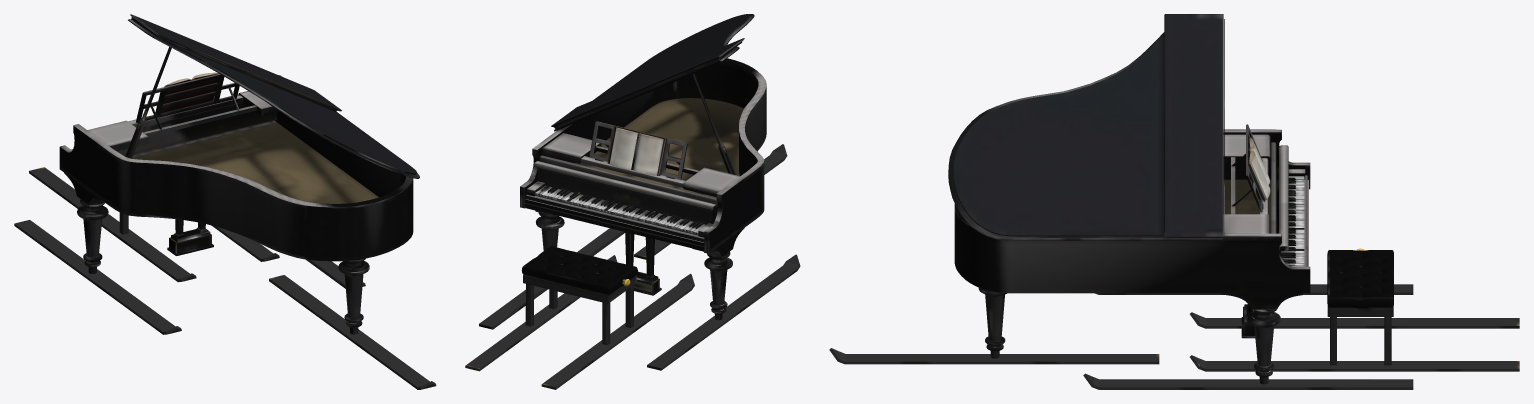
File: Piano.fbx
3 renders of one model, left to right at view 1: azimuth 30°, elevation 25°; view 2: azimuth 150°, elevation 25°; view 3: azimuth 270°, elevation 25°, orthographic. The views are drawn at different scales.
Parts seen in each view (by area): view 1: Piano; view 2: Piano; view 3: Piano.
Boxes of the visible parts, x1,y1,x2,y2 form: Piano: [14, 14, 436, 389]; Piano: [465, 14, 800, 389]; Piano: [829, 14, 1519, 389].
Bounding box in the file's own units: 161 × 193 × 421.
Materials: 1 (1 with a texture image).
